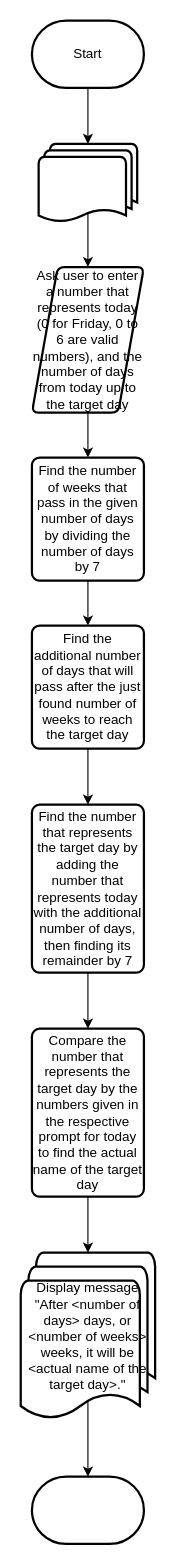
This 175x1564 diagram has some shape labels left out. The box of each missing label's shape, as (x1, y1, x2, y2) in pixels:
Display program instructions: (37, 142, 138, 223)
End: (30, 1475, 144, 1544)
